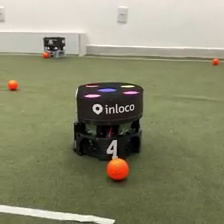ball: (105, 155, 130, 182), (6, 78, 18, 90), (211, 56, 220, 65), (42, 50, 50, 59)
goal: (1, 30, 88, 57)
robot: (71, 79, 147, 163), (40, 34, 67, 60)
